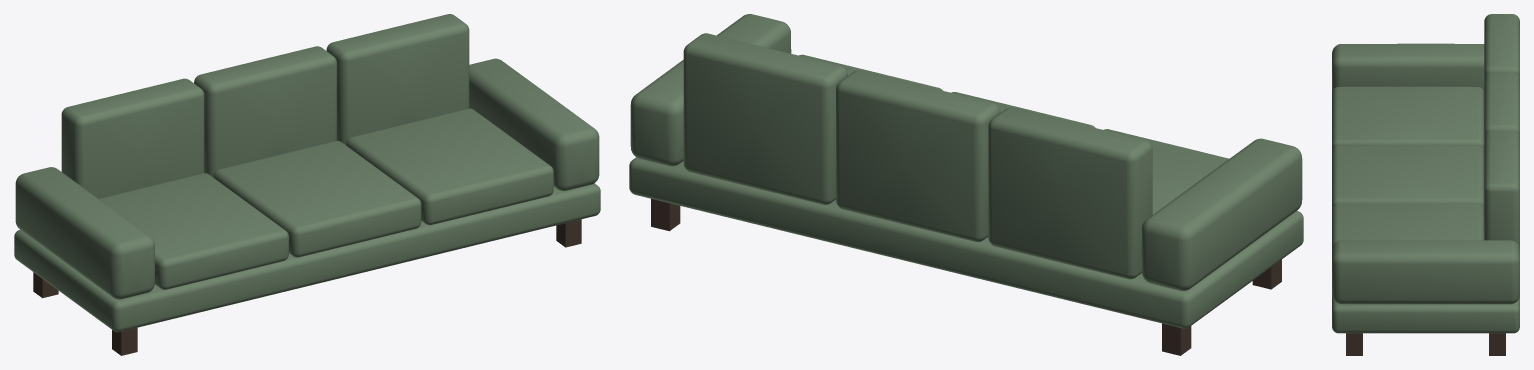
The model's file is sofa-250.glb.
3 renders of one model, left to right at view 1: azimuth 30°, elevation 25°; view 2: azimuth 150°, elevation 25°; view 3: azimuth 270°, elevation 25°, orthographic. The views are drawn at different scales.
Parts seen in each view (by area): view 1: base, seat_1, seat_2, back_0, back_2, back_1, seat_0, arm_0, arm_1, leg_0_1, leg_1_1; view 2: base, back_0, back_2, back_1, arm_0, arm_1, seat_0, leg_0_0, leg_1_0; view 3: arm_1, seat_0, seat_1, arm_0, base, seat_2, back_2, back_1, back_0, leg_1_0, leg_1_1.
Boxes of the visible parts, <box> form: base: <box>14,183,600,332</box>; seat_1: <box>213,141,421,257</box>; seat_2: <box>346,108,553,225</box>; back_0: <box>61,78,204,198</box>; back_2: <box>326,14,469,144</box>; back_1: <box>194,46,336,176</box>; seat_0: <box>99,173,288,289</box>; arm_0: <box>15,167,154,299</box>; arm_1: <box>469,58,599,191</box>; leg_0_1: <box>112,327,137,355</box>; leg_1_1: <box>556,219,581,247</box>; base: <box>629,157,1303,328</box>; back_0: <box>988,107,1152,279</box>; back_2: <box>683,33,847,204</box>; back_1: <box>836,70,1000,241</box>; arm_0: <box>1141,138,1302,290</box>; arm_1: <box>630,14,791,166</box>; seat_0: <box>1104,129,1228,214</box>; leg_0_0: <box>1162,323,1191,355</box>; leg_1_0: <box>651,199,680,231</box>; arm_1: <box>1332,240,1519,304</box>; seat_0: <box>1332,86,1484,150</box>; seat_1: <box>1332,145,1484,209</box>; arm_0: <box>1332,43,1484,92</box>; base: <box>1332,296,1519,333</box>; seat_2: <box>1332,204,1484,248</box>; back_2: <box>1484,131,1519,248</box>; back_1: <box>1484,72,1519,137</box>; back_0: <box>1484,14,1519,78</box>; leg_1_0: <box>1489,333,1505,355</box>; leg_1_1: <box>1346,333,1362,355</box>.
Size of the model in its own units: 2.5 by 0.84 by 0.92.
